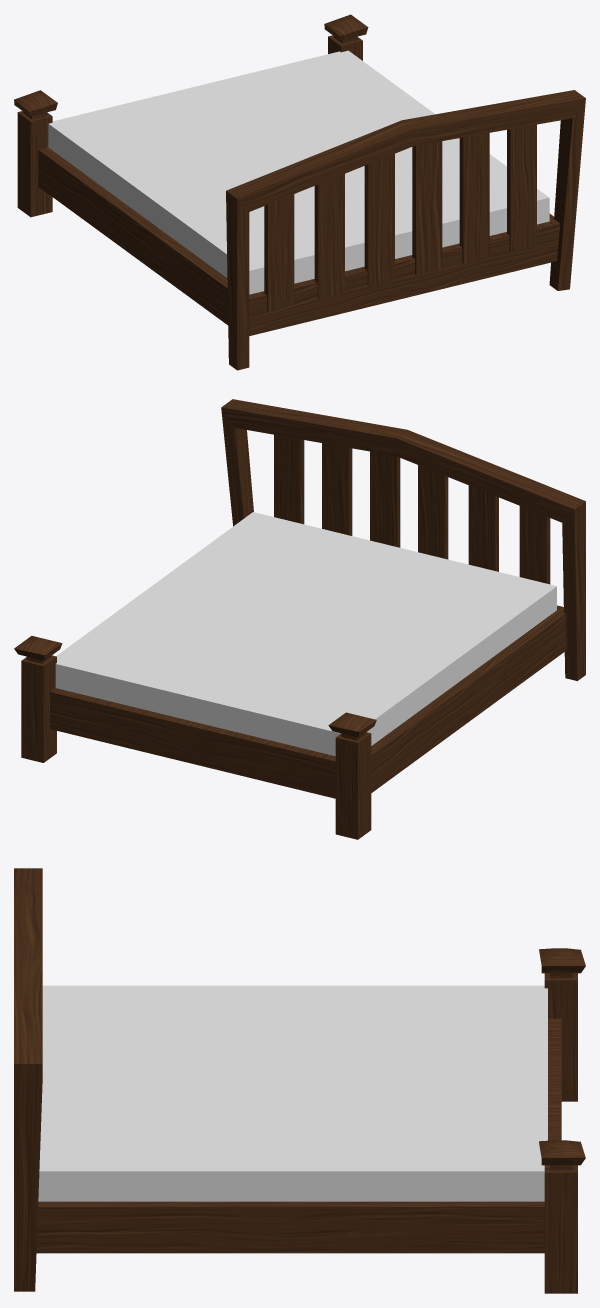
File: Bed.fbx
The picture shows the model from 3 angles, top to bottom: view 1: azimuth 30°, elevation 25°; view 2: azimuth 150°, elevation 25°; view 3: azimuth 270°, elevation 25°; orthographic projection. The views are drawn at different scales.
Visible parts, largest first — view 1: Bed; view 2: Bed; view 3: Bed.
Part boxes in pixels (bbox=[...]): Bed: bbox=[14, 14, 585, 370]; Bed: bbox=[14, 399, 585, 839]; Bed: bbox=[14, 868, 585, 1293].
Bounding box in the file's own units: 21318 × 11646 × 23839.
